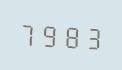eight: (60, 20, 80, 51)
nine: (39, 18, 59, 49)
seven: (18, 17, 38, 48)
three: (81, 21, 101, 52)
